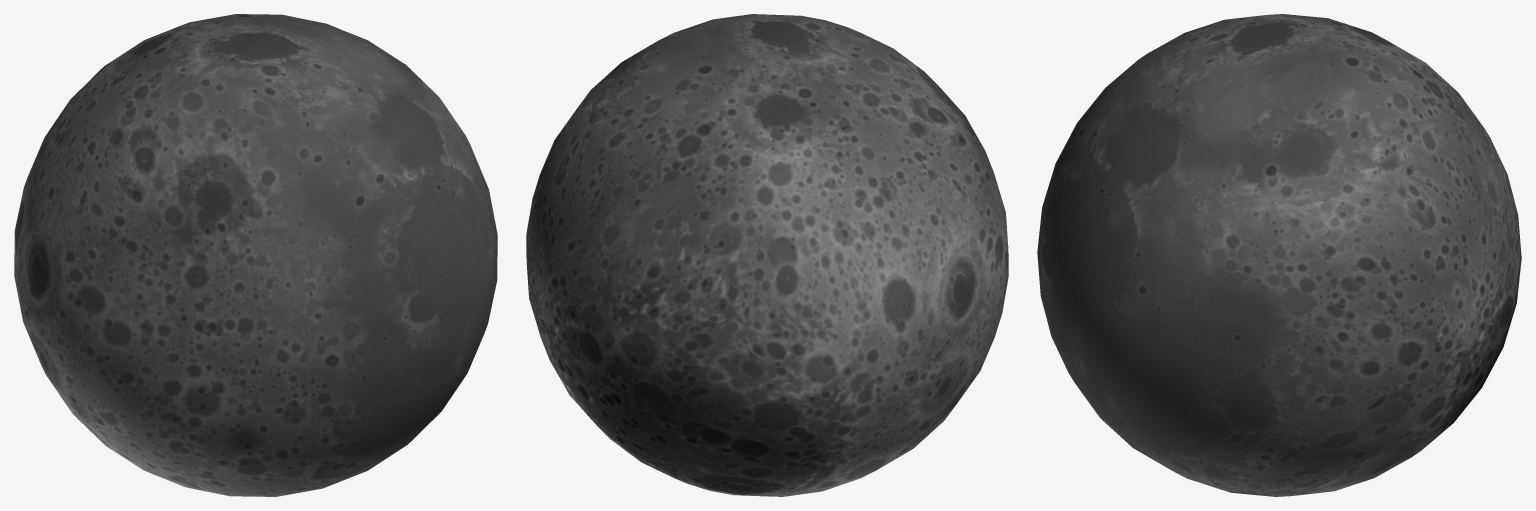
The model's file is moon.glb.
The picture shows the model from 3 angles, left to right: view 1: azimuth 30°, elevation 25°; view 2: azimuth 150°, elevation 25°; view 3: azimuth 270°, elevation 25°; orthographic projection.
Visible parts, largest first — view 1: Moon_Cube.002; view 2: Moon_Cube.002; view 3: Moon_Cube.002.
Boxes of the visible parts, x1=… form: Moon_Cube.002: x1=14, y1=14, x2=497, y2=496; Moon_Cube.002: x1=526, y1=14, x2=1008, y2=496; Moon_Cube.002: x1=1037, y1=14, x2=1521, y2=496.
Size of the model in its own units: 3.48 by 3.48 by 3.49.
1 material, 1 textured.
